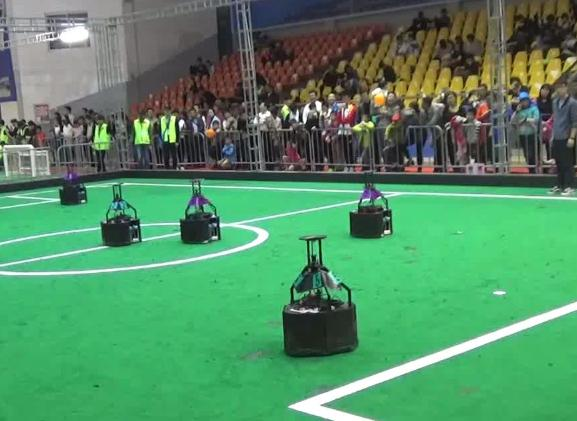robot: (280, 231, 362, 356), (174, 176, 226, 245), (346, 168, 395, 241), (95, 183, 147, 250)
